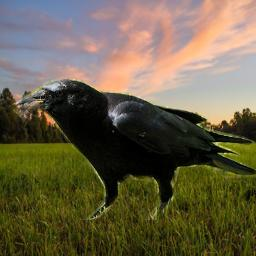Crow: (12, 79, 256, 220)
